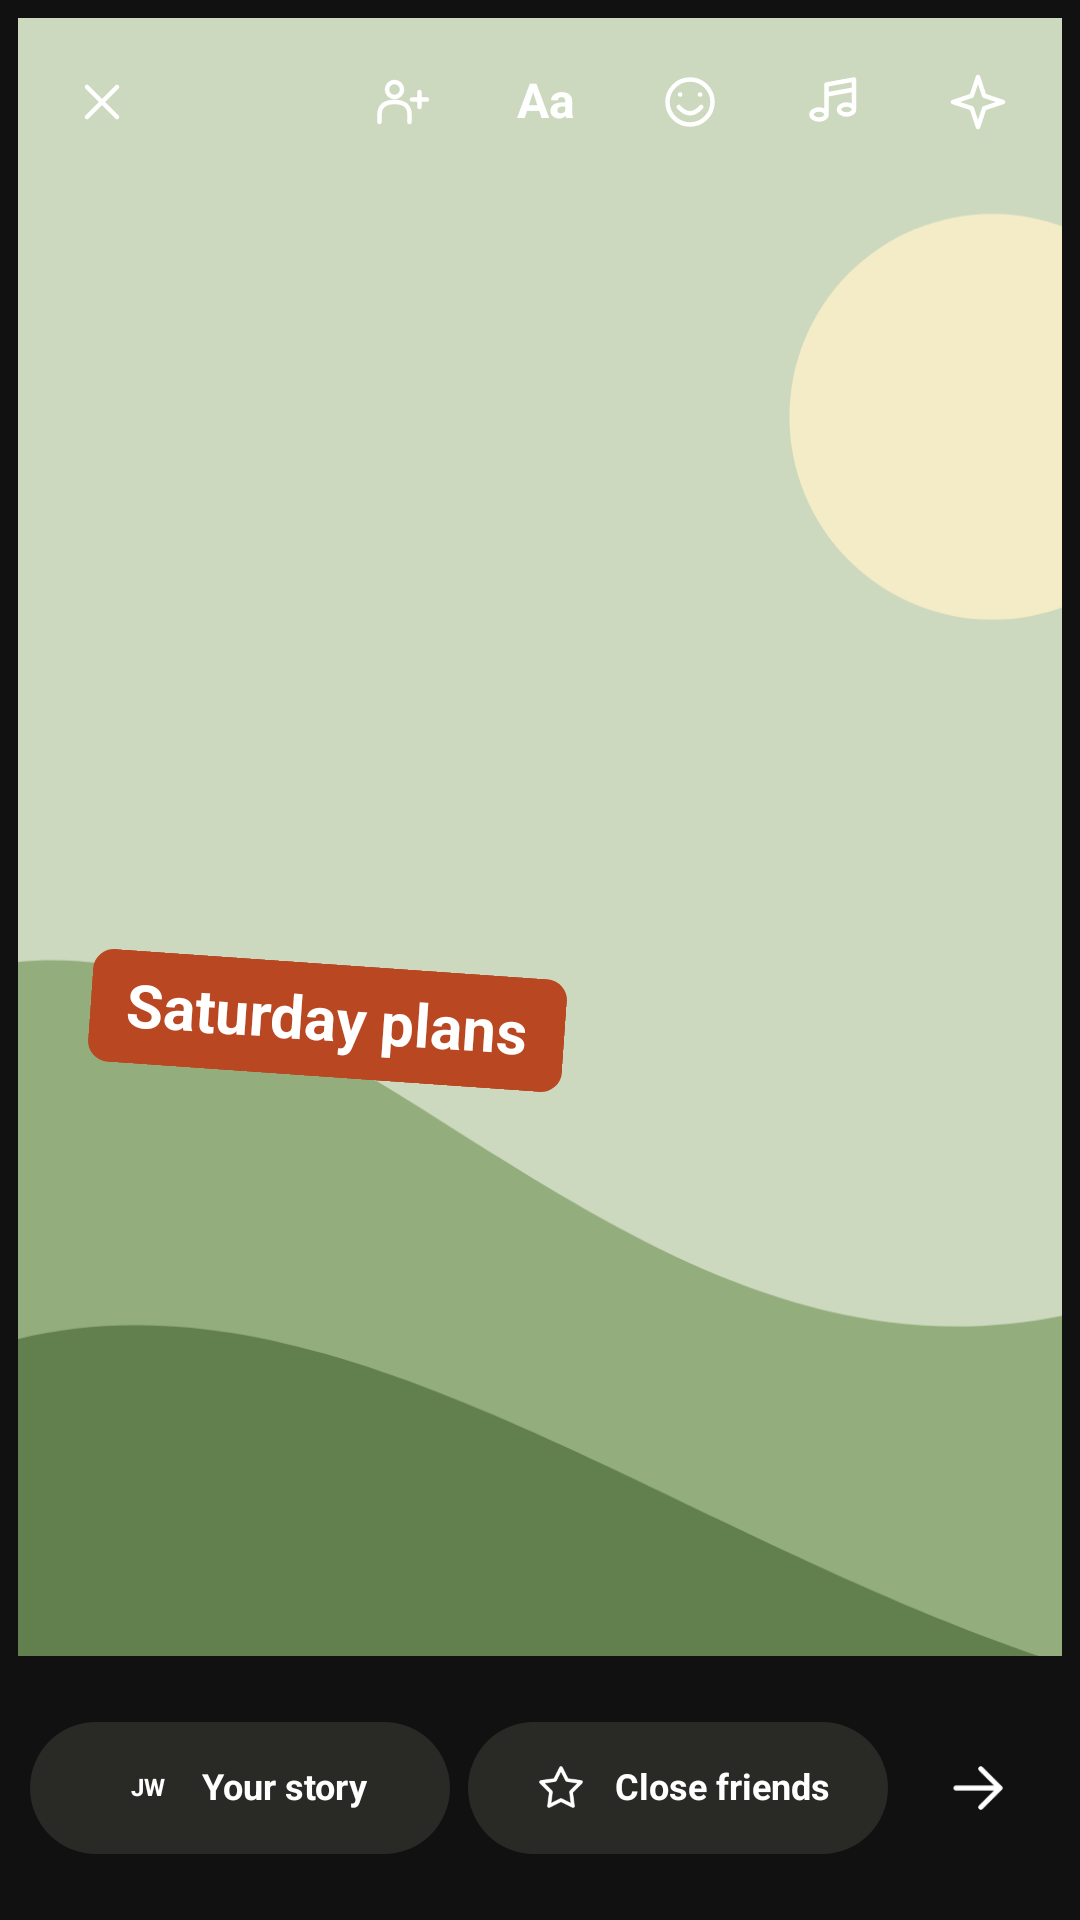

Point at icon controls on the screen. Image size 1080x1920, points as point (x, y).
story arrow: point (978, 1788)
story close: point (102, 102)
story music: point (832, 99)
story smile: point (690, 102)
story sparkle: point (978, 102)
story star: point (561, 1787)
story tag: point (403, 102)
